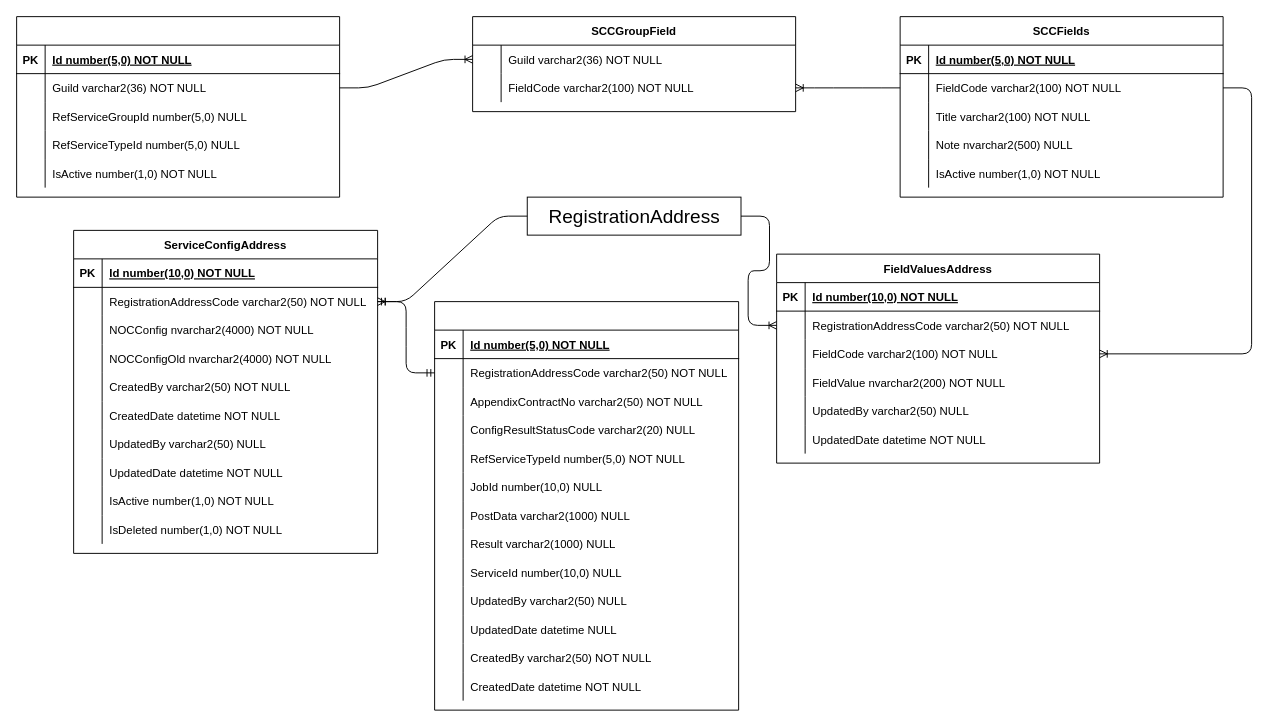
This 1276x727 diagram has some shape labels left out. The shapes that lost their labels are listed below. From the top down, each one's box as (x1, y1, x2, y2) in pixels, then its label:
(16, 16, 340, 197): SCCServiceGroup
(434, 301, 739, 710): ServiceConfigResult
